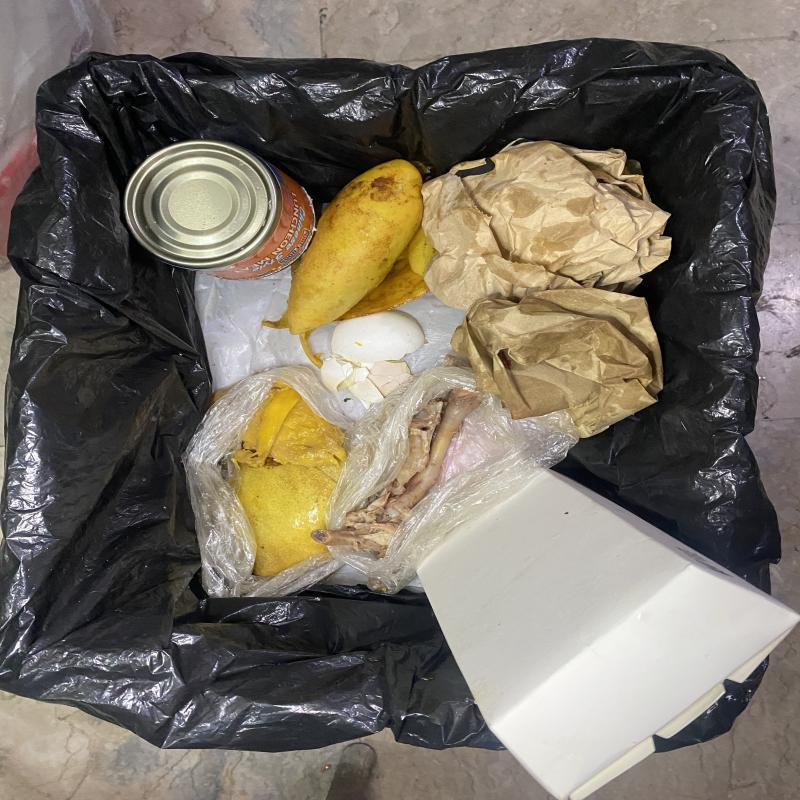aluminum: (121, 141, 318, 281)
cardboard: (416, 470, 800, 800)
egg shell: (320, 310, 426, 409)
fruit peels: (263, 159, 438, 369), (221, 382, 346, 578)
left-over food: (310, 388, 489, 553)
paper: (421, 142, 675, 312), (451, 287, 666, 440)
plastic bag: (312, 366, 579, 596), (183, 367, 352, 602)
